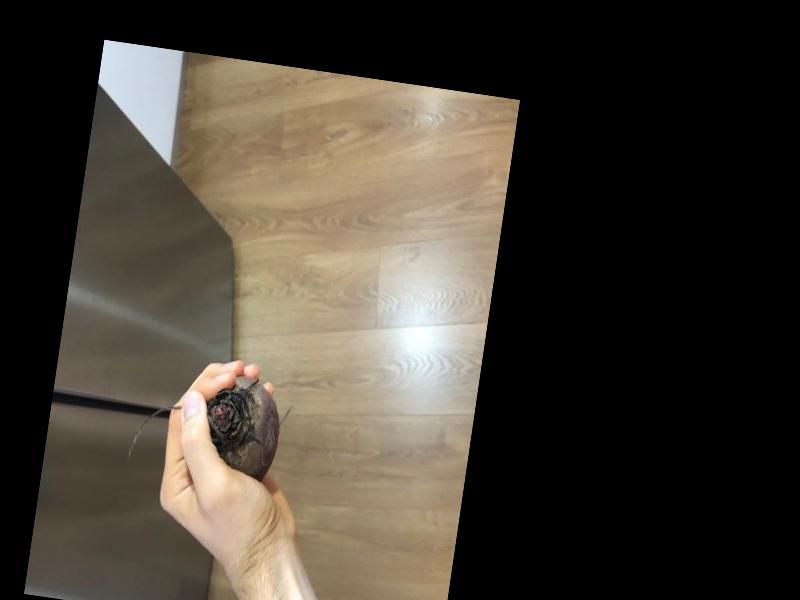Beet: (126, 360, 286, 483)
